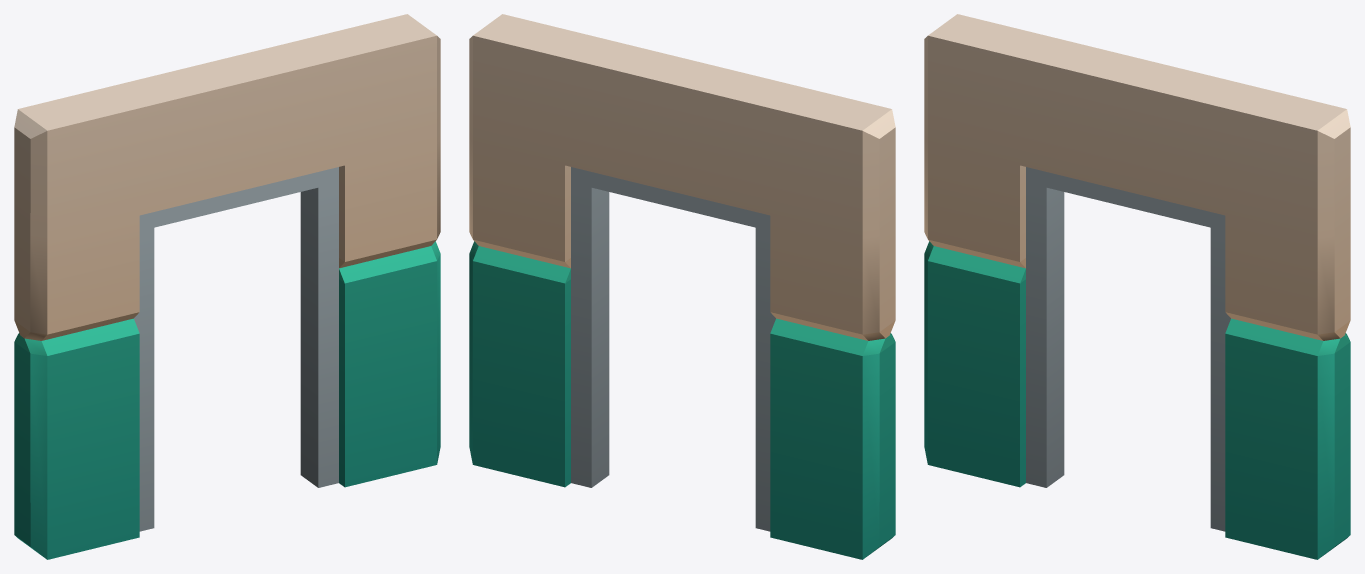
Rendered from wall_doorway.obj.
3 renders of one model, left to right at view 1: azimuth 30°, elevation 25°; view 2: azimuth 150°, elevation 25°; view 3: azimuth 330°, elevation 25°, orthographic.
Visible parts, largest first — view 1: wall_doorway_Cube.145; view 2: wall_doorway_Cube.145; view 3: wall_doorway_Cube.145.
Part boxes in pixels (x1,y1,x2,y2): wall_doorway_Cube.145: (14,14,440,559); wall_doorway_Cube.145: (469,14,895,559); wall_doorway_Cube.145: (924,14,1350,559).
Bounding box in the file's own units: 4 × 4 × 0.5.
1 material, 1 textured.
